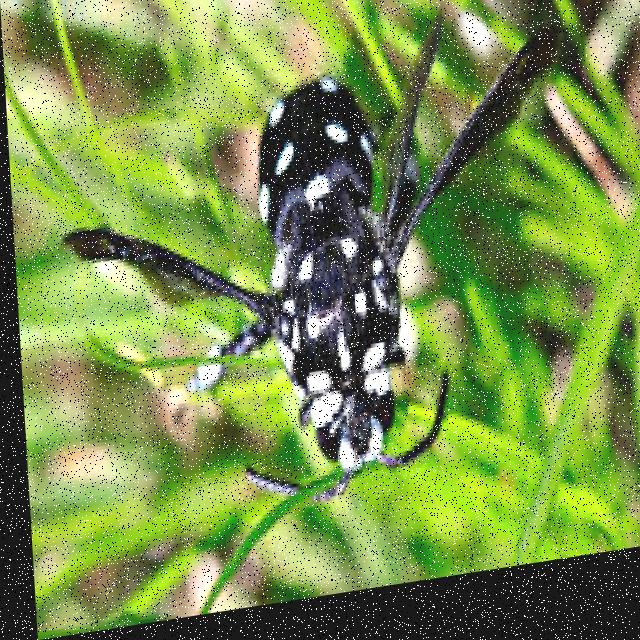Thyreus: (83, 25, 563, 526)
